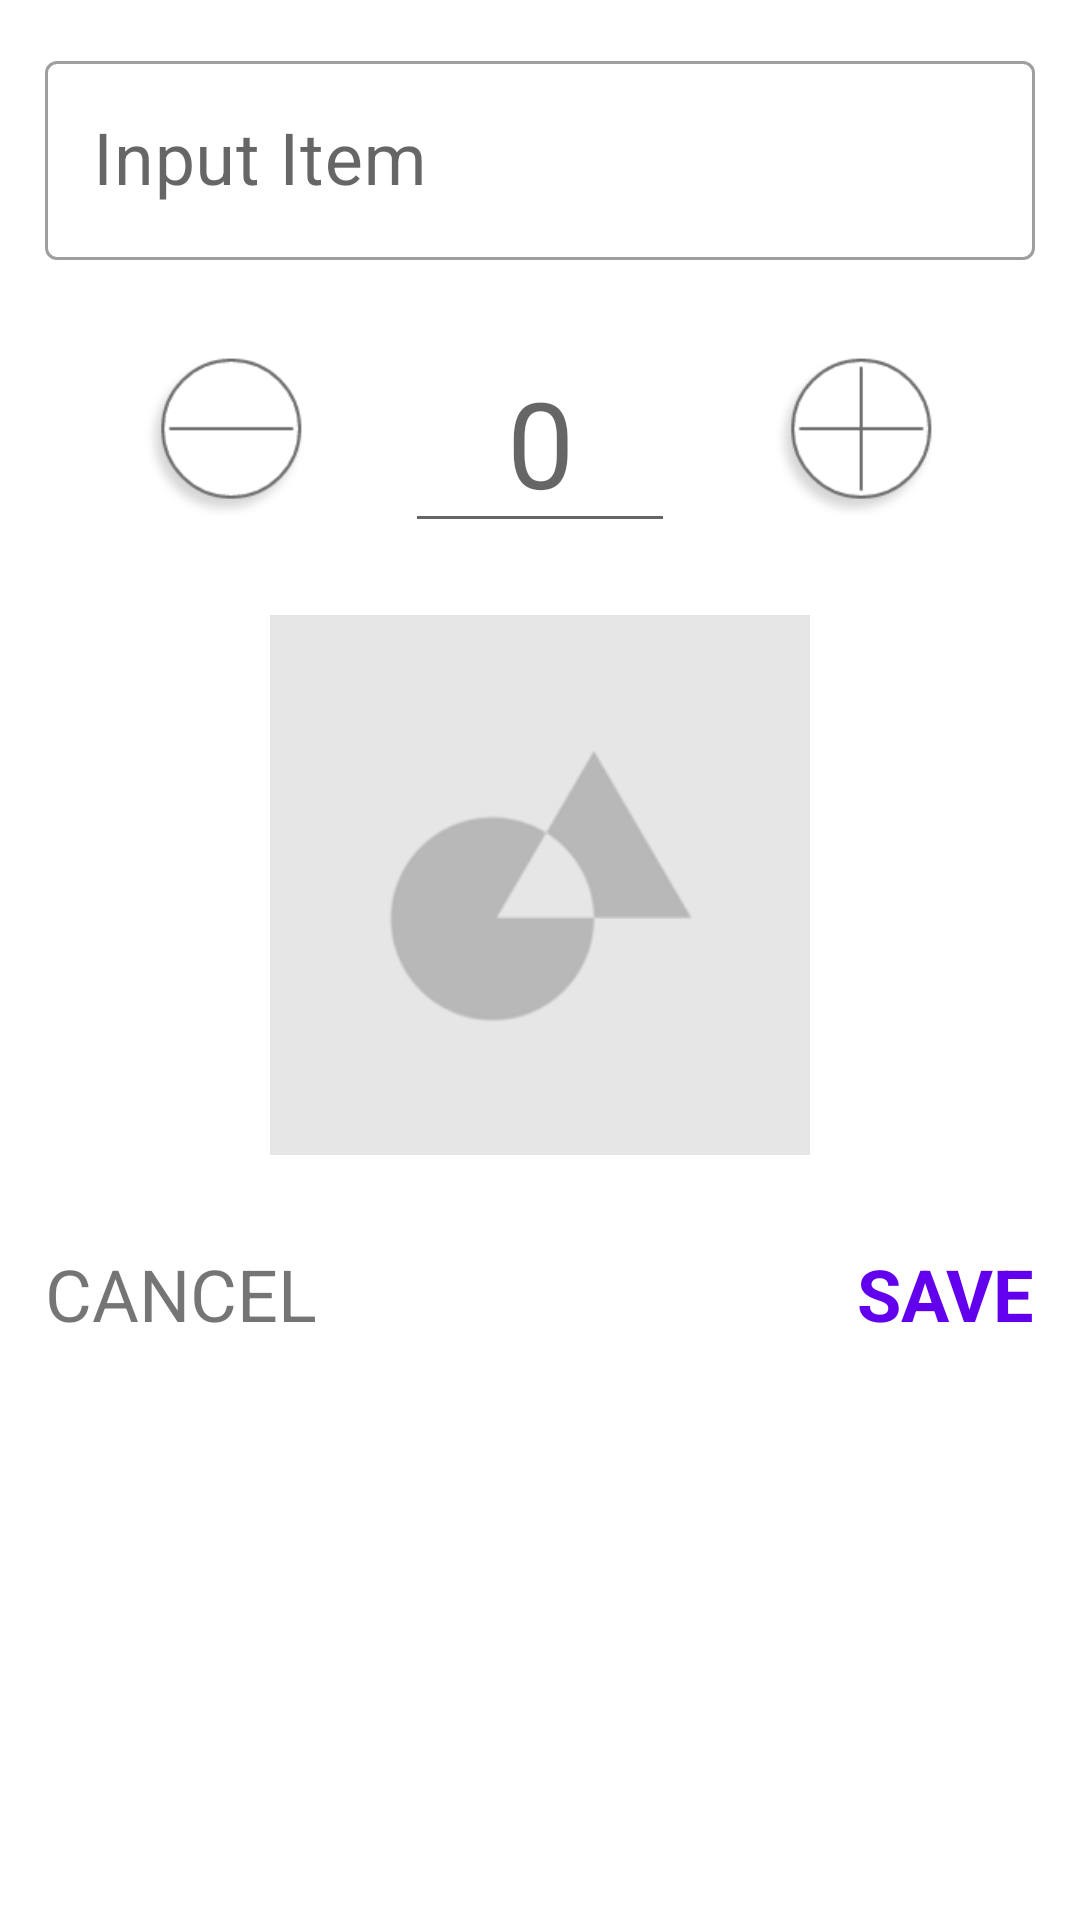

Screen size 1080w x 1920h. Icon name, then its center in pixels as point (x, y):
decrease: point (229, 432)
increase: point (859, 432)
